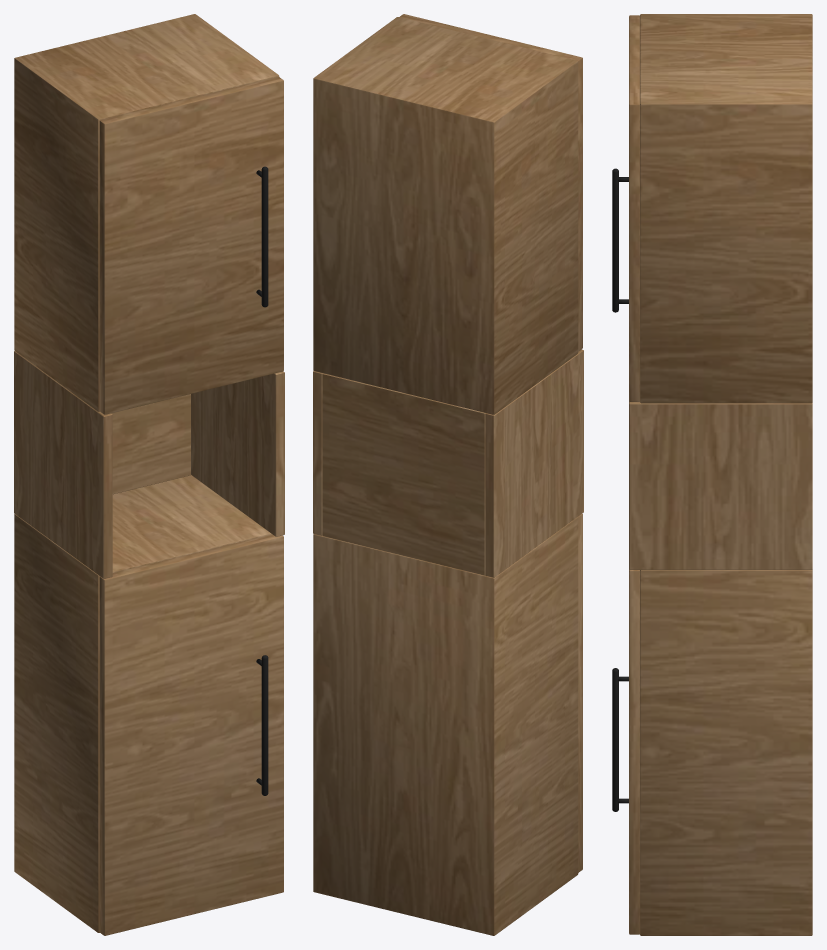
The model's file is columna_bano_roble.glb.
3 views of the same model, side by side, from view 1: azimuth 30°, elevation 25°; view 2: azimuth 150°, elevation 25°; view 3: azimuth 270°, elevation 25° (orthographic). The views are drawn at different scales.
Visible parts, largest first — view 1: columna_bano_roble; view 2: columna_bano_roble; view 3: columna_bano_roble.
Part boxes in pixels (x1,y1,x2,y2): columna_bano_roble: [14, 14, 284, 935]; columna_bano_roble: [313, 14, 583, 935]; columna_bano_roble: [612, 14, 812, 935].
Bounding box in the file's own units: 0.3499 × 1.5 × 0.3274.
2 materials, 1 textured.
